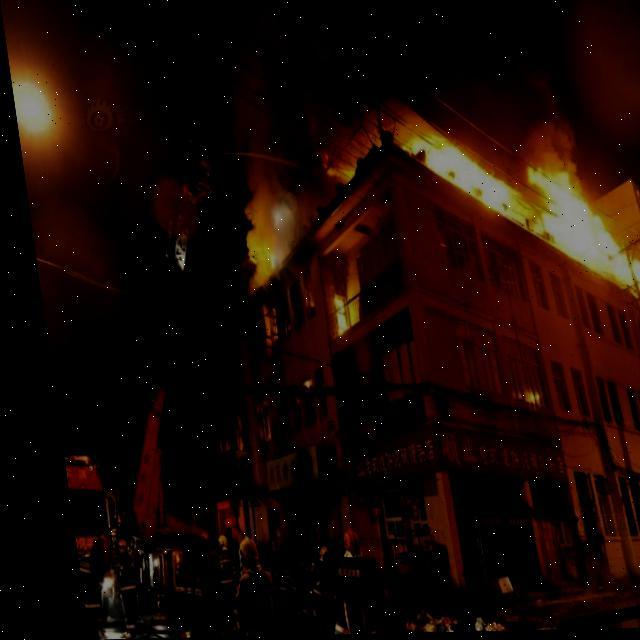Fire: (399, 113, 639, 317), (231, 192, 299, 288)
